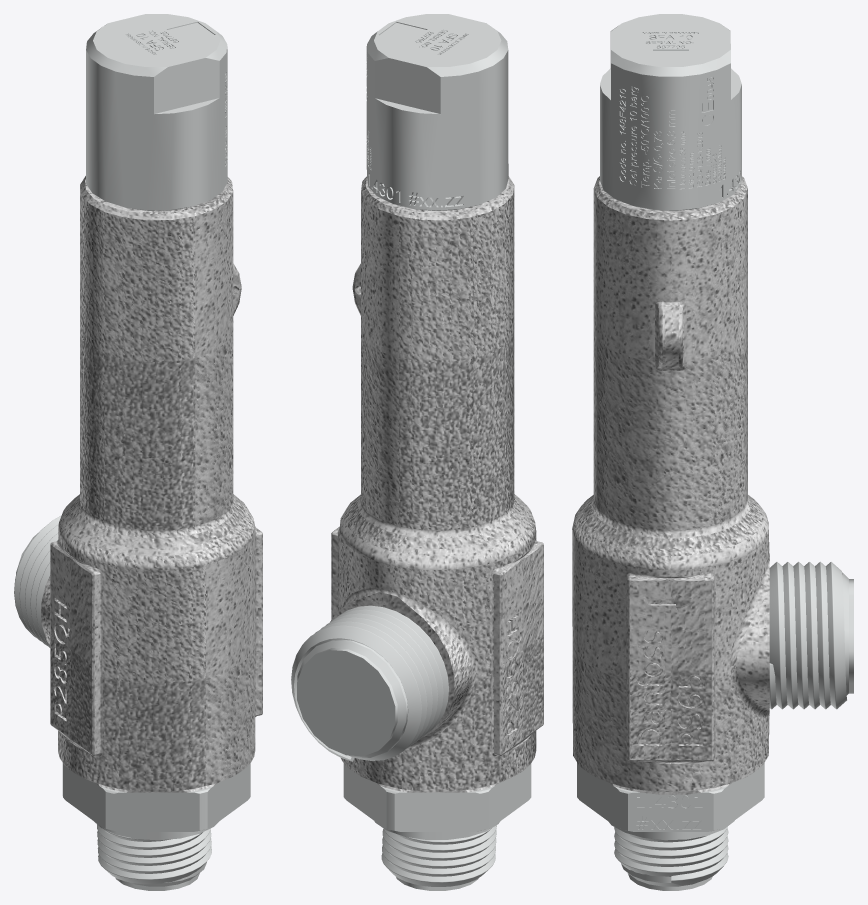
File: SFA_10_v04-GLB.glb
The picture shows the model from 3 angles, left to right: view 1: azimuth 30°, elevation 25°; view 2: azimuth 150°, elevation 25°; view 3: azimuth 270°, elevation 25°; orthographic projection.
Visible parts, largest first — view 1: Solid1, Spring001.002, Spring001; view 2: Solid1, Spring001, Spring001.002; view 3: Solid1, Spring001, Spring001.002.
Boxes of the visible parts, x1=… form: Solid1: x1=16, y1=14, x2=262, y2=890; Spring001.002: x1=97, y1=824, x2=211, y2=884; Spring001: x1=14, y1=515, x2=61, y2=647; Solid1: x1=297, y1=14, x2=543, y2=890; Spring001: x1=291, y1=605, x2=448, y2=761; Spring001.002: x1=381, y1=825, x2=496, y2=886; Solid1: x1=572, y1=14, x2=853, y2=890; Spring001: x1=769, y1=561, x2=846, y2=709; Spring001.002: x1=614, y1=826, x2=728, y2=885.
Bounding box in the file's own units: 0.1614 × 0.7517 × 0.2303.
4 materials, 1 textured.
